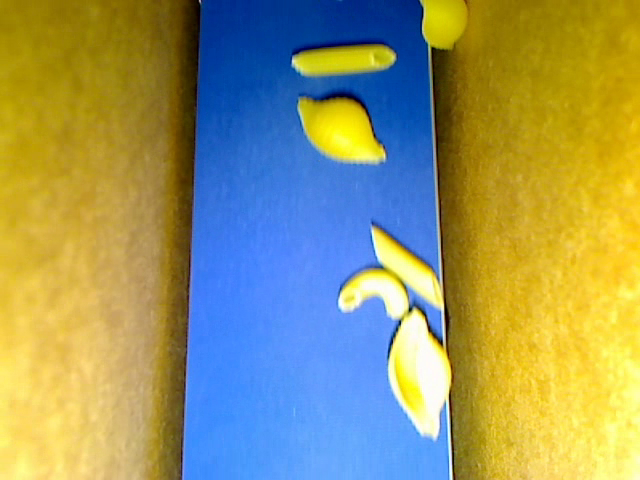penne: (369, 223, 445, 309), (289, 45, 397, 75)
shell: (387, 307, 452, 441), (297, 94, 385, 163), (418, 1, 469, 51)
